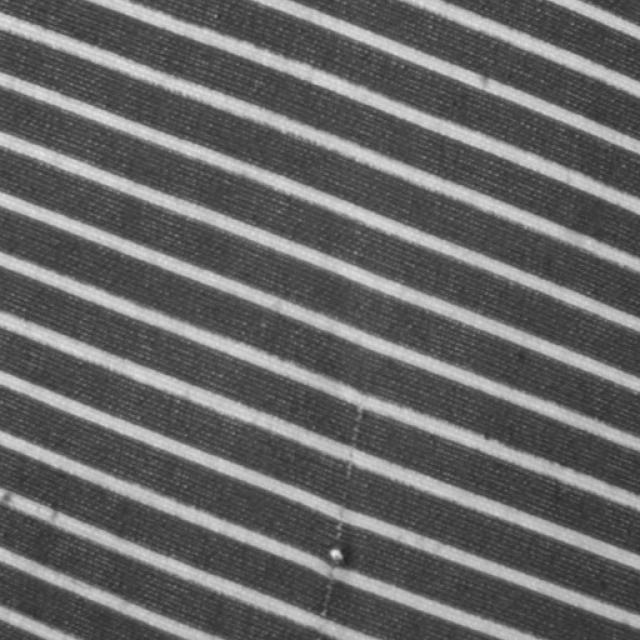Hole-Defect: (316, 506, 365, 639), (340, 400, 368, 504)
